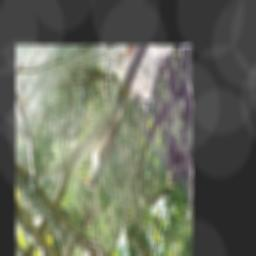Cuckoo: (82, 90, 132, 191)
